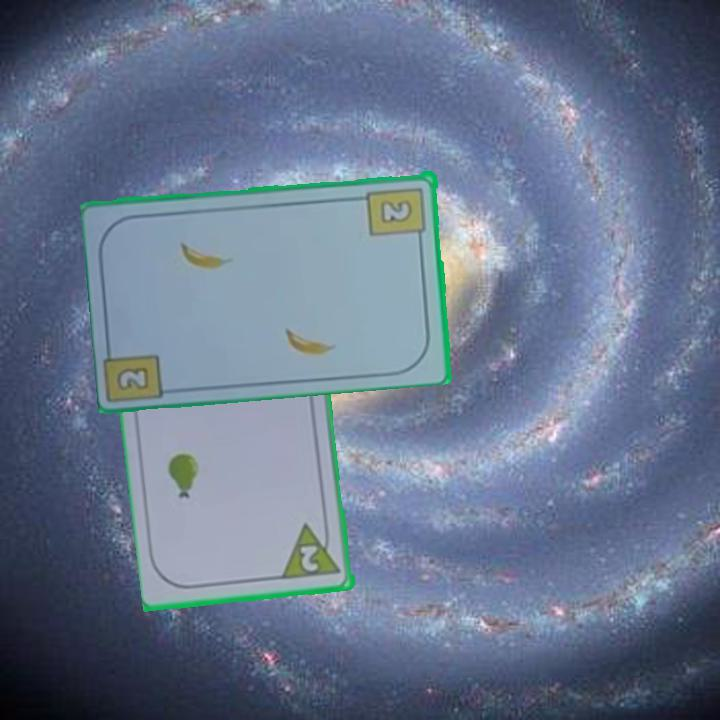2b: (364, 183, 429, 245), (113, 363, 153, 394)
2p: (297, 542, 322, 575)
